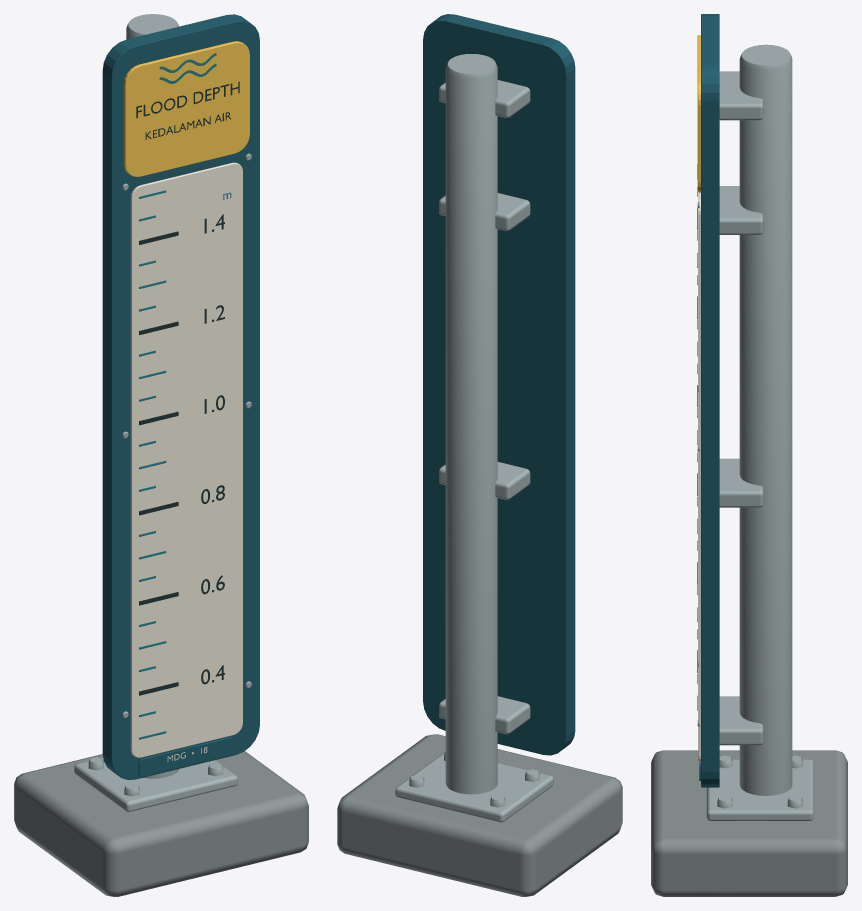
3 renders of one model, left to right at view 1: azimuth 30°, elevation 25°; view 2: azimuth 150°, elevation 25°; view 3: azimuth 270°, elevation 25°, orthographic. The views are drawn at different scales.
Visible parts, largest first — view 1: Gauge Housing, Body, Markings, Foundation Hardware; view 2: Gauge Housing, Foundation Hardware, Body; view 3: Foundation Hardware, Body, Gauge Housing, Markings.
Part boxes in pixels (x1,y1,x2,y2): Gauge Housing: (102, 14, 259, 779); Body: (14, 751, 308, 896); Markings: (136, 53, 239, 776); Foundation Hardware: (74, 14, 251, 811); Gauge Housing: (423, 14, 575, 755); Foundation Hardware: (395, 54, 553, 822); Body: (337, 734, 622, 896); Foundation Hardware: (697, 44, 813, 820); Body: (651, 750, 847, 896); Gauge Housing: (697, 14, 719, 787); Markings: (697, 164, 700, 780).
Bounding box in the file's own units: 0.476 × 1.84 × 0.403.
